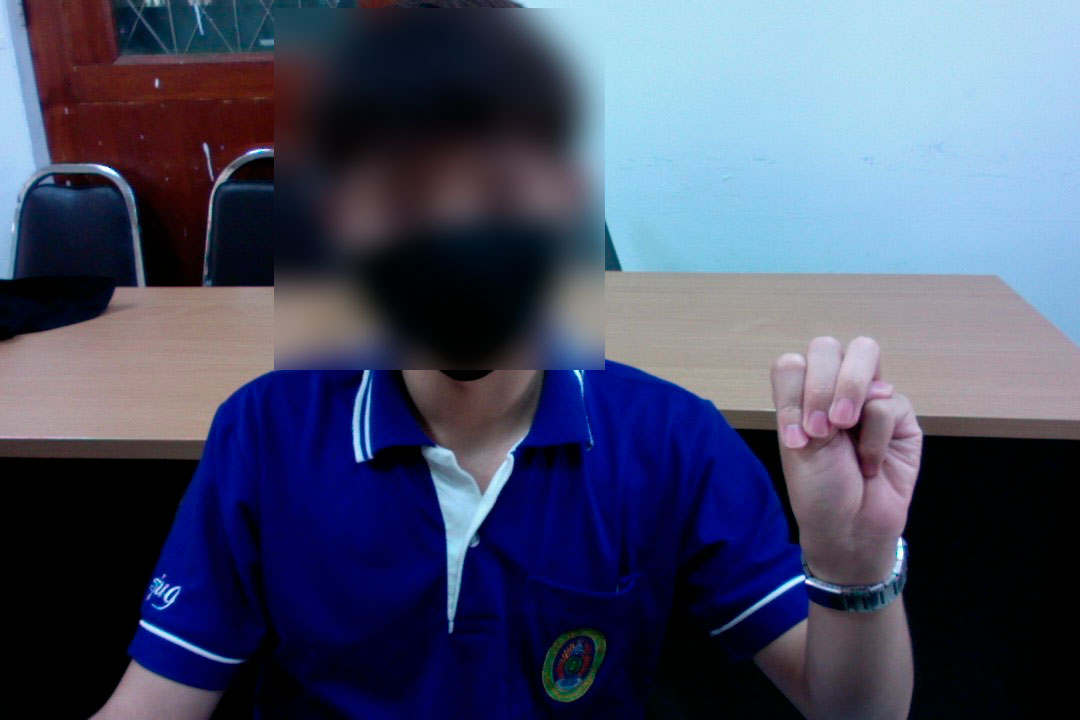mor: (762, 330, 932, 560)
